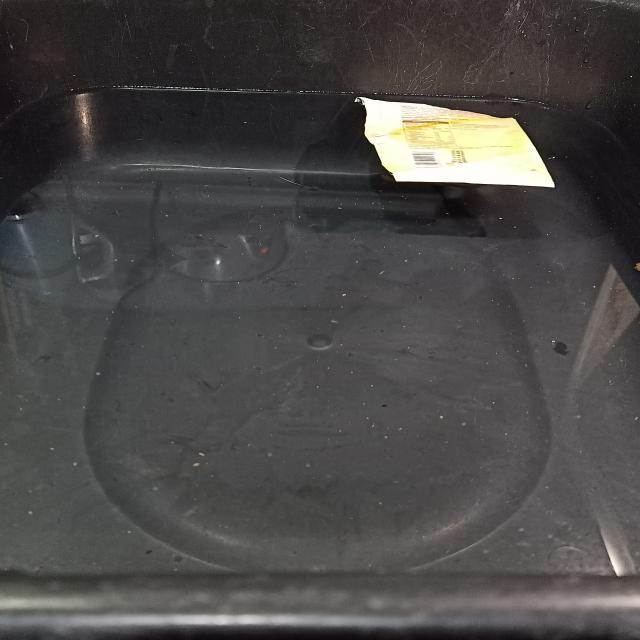Plastic Wrapper: (355, 97, 554, 188)
